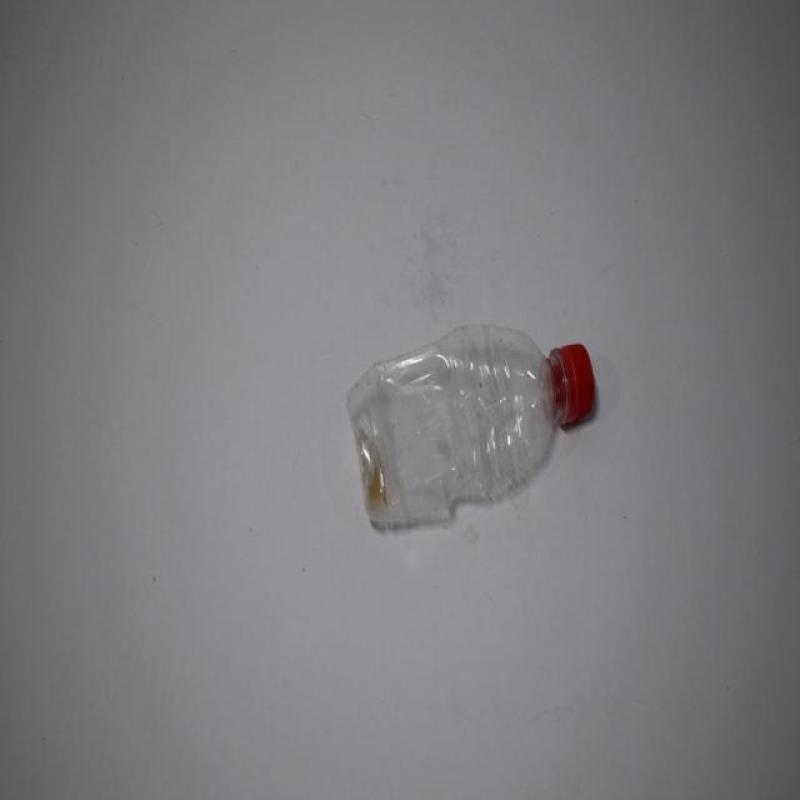botella: (344, 322, 598, 526)
